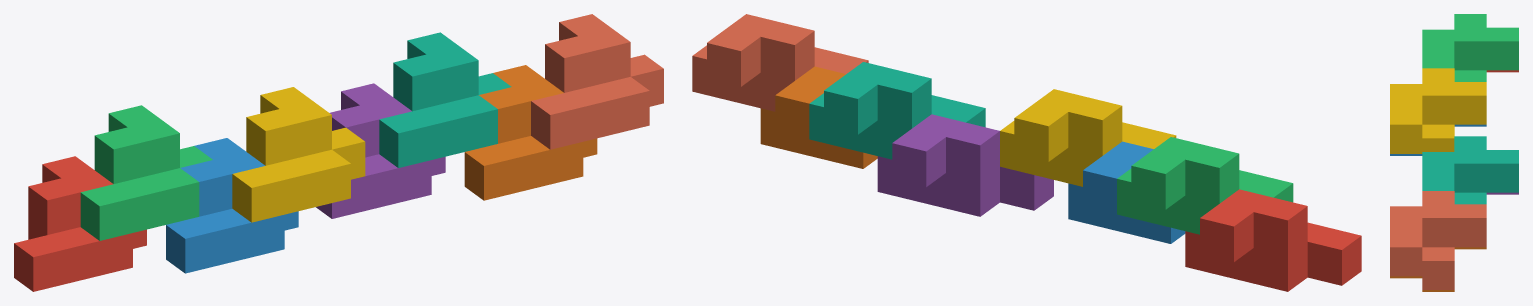
The model's file is tiling.obj.
The picture shows the model from 3 angles, left to right: view 1: azimuth 30°, elevation 25°; view 2: azimuth 150°, elevation 25°; view 3: azimuth 270°, elevation 25°; orthographic projection. The views are drawn at different scales.
Parts seen in each view (by area): view 1: copy_1_domain_4, copy_1_domain_8, copy_1_domain_3, copy_1_domain_7, copy_1_domain_1, copy_1_domain_2, copy_1_domain_6, copy_1_domain_5; view 2: copy_1_domain_1, copy_1_domain_5, copy_1_domain_7, copy_1_domain_3, copy_1_domain_8, copy_1_domain_4, copy_1_domain_6, copy_1_domain_2; view 3: copy_1_domain_8, copy_1_domain_4, copy_1_domain_3, copy_1_domain_7, copy_1_domain_6, copy_1_domain_2, copy_1_domain_1, copy_1_domain_5.
Part boxes in pixels (<box>): copy_1_domain_4: <box>232,87,365,222</box>; copy_1_domain_8: <box>531,14,663,149</box>; copy_1_domain_3: <box>80,105,212,240</box>; copy_1_domain_7: <box>379,32,511,167</box>; copy_1_domain_1: <box>14,156,146,291</box>; copy_1_domain_2: <box>166,138,298,273</box>; copy_1_domain_6: <box>464,65,597,200</box>; copy_1_domain_5: <box>316,83,445,218</box>; copy_1_domain_1: <box>1185,189,1361,291</box>; copy_1_domain_5: <box>877,114,1053,216</box>; copy_1_domain_7: <box>809,62,985,159</box>; copy_1_domain_3: <box>1117,137,1293,234</box>; copy_1_domain_8: <box>692,14,868,111</box>; copy_1_domain_4: <box>1000,89,1176,186</box>; copy_1_domain_6: <box>760,66,877,168</box>; copy_1_domain_2: <box>1068,141,1185,243</box>; copy_1_domain_8: <box>1390,191,1486,289</box>; copy_1_domain_4: <box>1390,68,1486,153</box>; copy_1_domain_3: <box>1422,14,1518,81</box>; copy_1_domain_7: <box>1422,136,1518,204</box>; copy_1_domain_6: <box>1390,247,1486,291</box>; copy_1_domain_2: <box>1390,124,1486,155</box>; copy_1_domain_1: <box>1486,70,1518,72</box>; copy_1_domain_5: <box>1486,192,1518,194</box>.
Size of the model in its own units: 19 by 3 by 4.
